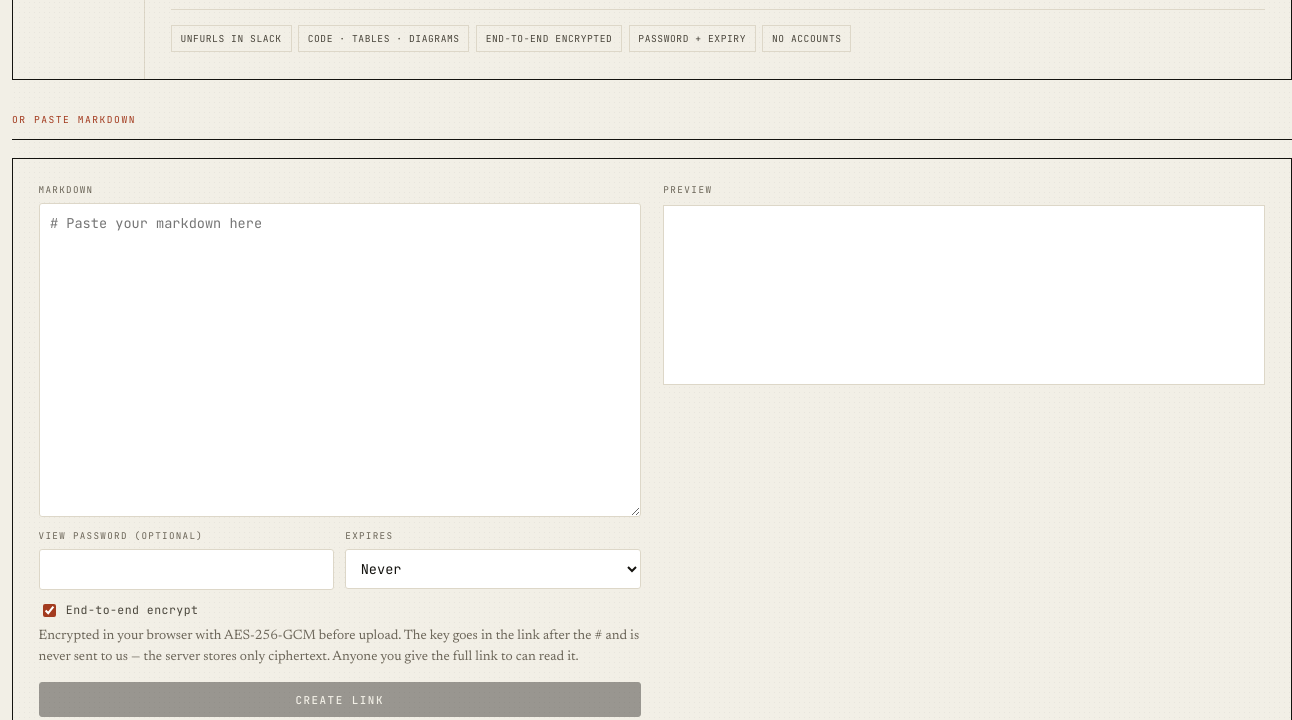
Test case: encrypts before createShare when the toggle is on
This screenshot has width=1292, height=720.
(page scrolled)
// Encryption is on by default — do not touch the checkbox.
Type "# Secret" into the text box labelled "Markdown" at point(340, 360), box x1=39 y1=203 x2=641 y2=518
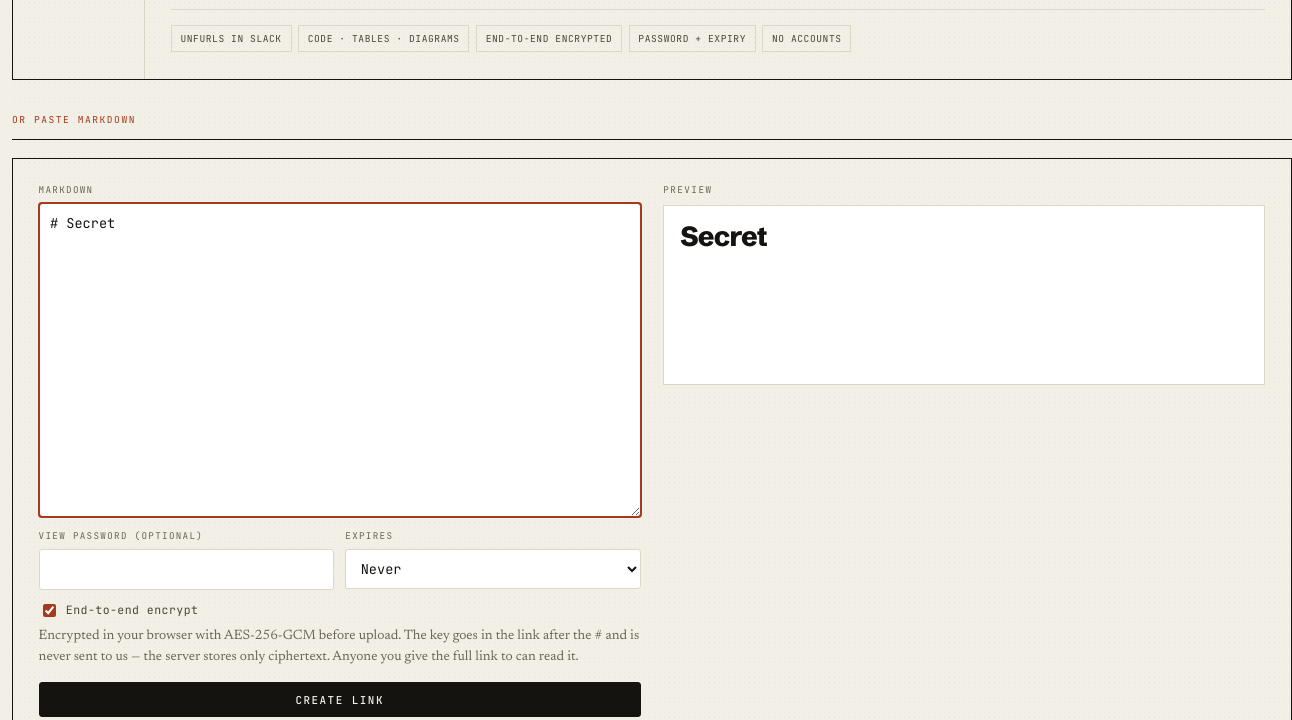
Click the button "Create link" at point(340, 700), box x1=39 y1=682 x2=641 y2=717
(page scrolled)
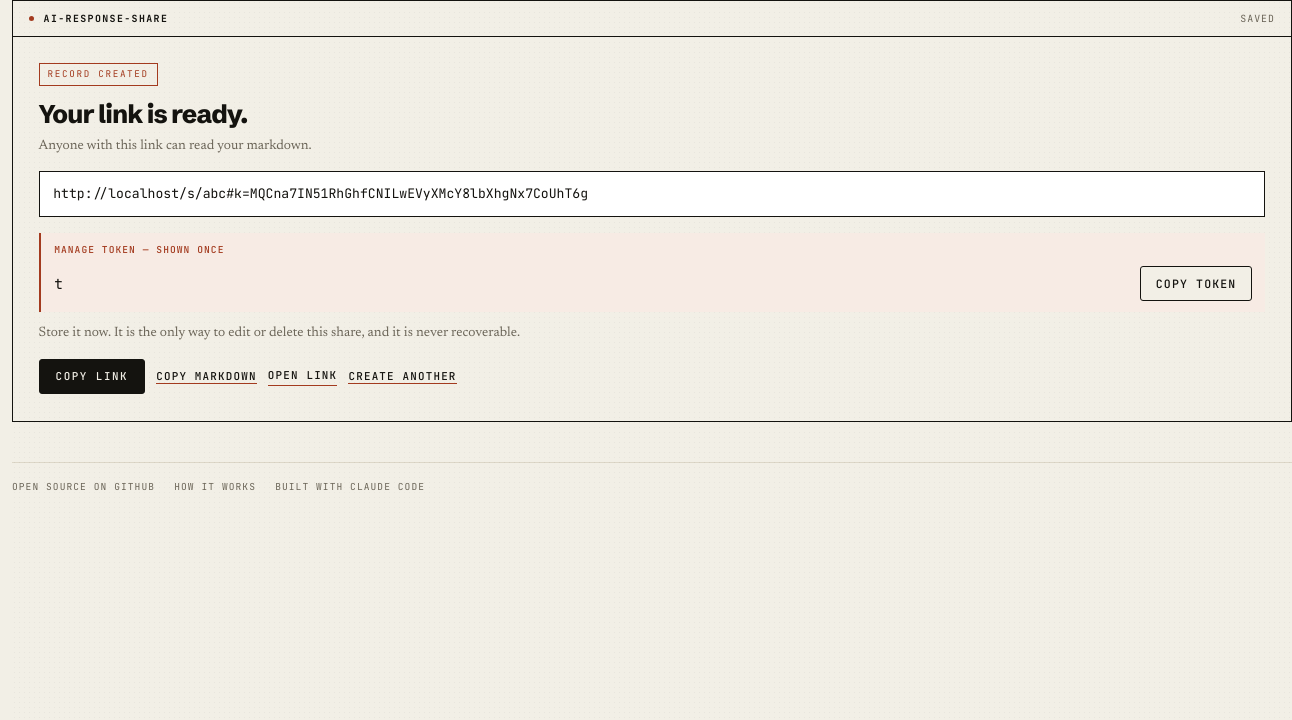
Expected: the link "http://localhost/s/abc#k=" is shown, x1=39 y1=171 x2=1265 y2=217
